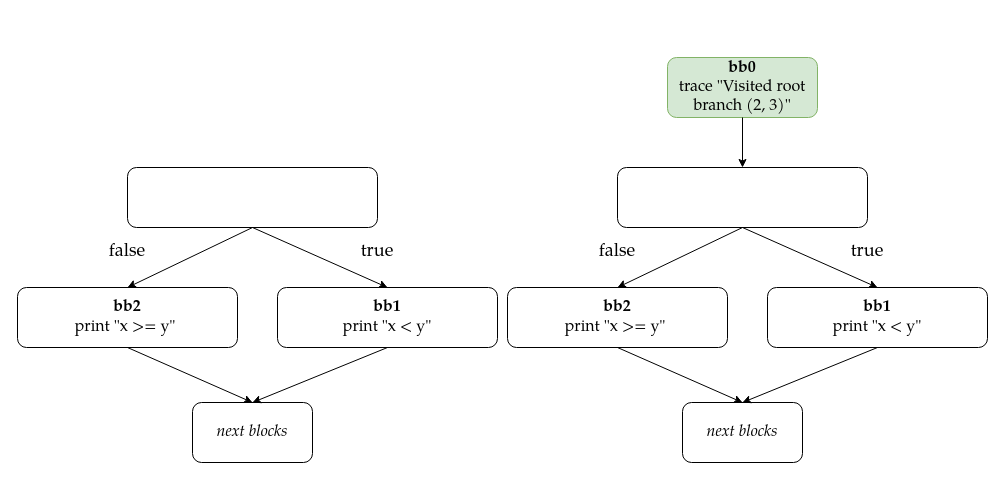
Image size: 1005x480. Some labels were removed from this diagram. Here are the shapes that lost their labels. From the top down, the box of each, then its label:
(126, 166, 378, 228): bb0 x < y
(616, 166, 868, 228): bb3 x < y
